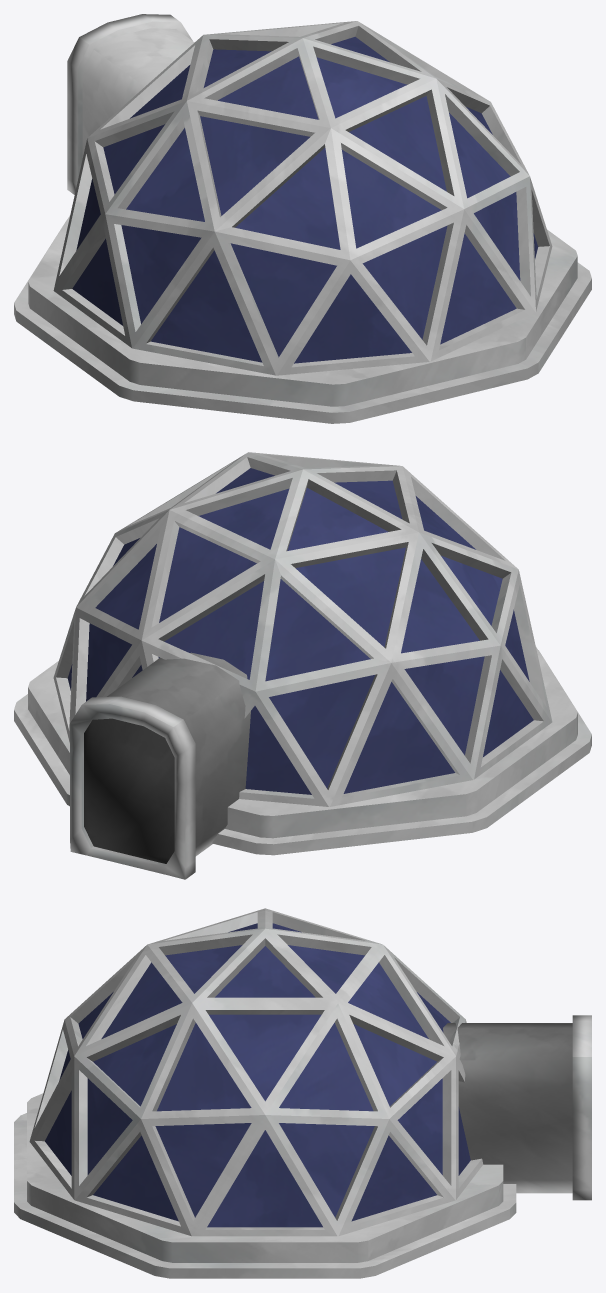
The model's file is Habitat_01.glb.
The picture shows the model from 3 angles, top to bottom: view 1: azimuth 30°, elevation 25°; view 2: azimuth 150°, elevation 25°; view 3: azimuth 270°, elevation 25°; orthographic projection. The views are drawn at different scales.
Visible parts, largest first — view 1: Habitat01; view 2: Habitat01; view 3: Habitat01.
Part boxes in pixels (left/top/right/bottom): Habitat01: left=14, top=14, right=591, bottom=423; Habitat01: left=14, top=452, right=591, bottom=879; Habitat01: left=14, top=908, right=591, bottom=1278.
Bounding box in the file's own units: 297 × 161 × 341.
Materials: 1 (1 with a texture image).
